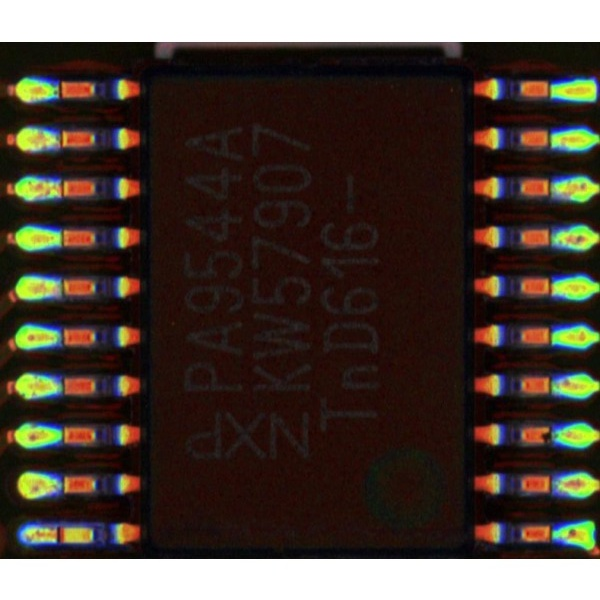Bad_podu: (44, 526, 70, 541), (50, 180, 72, 193)
